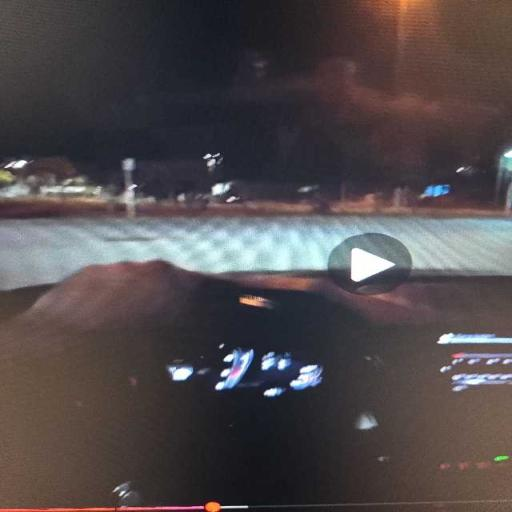lane: (0, 217, 511, 289)
person: (0, 261, 225, 507)
